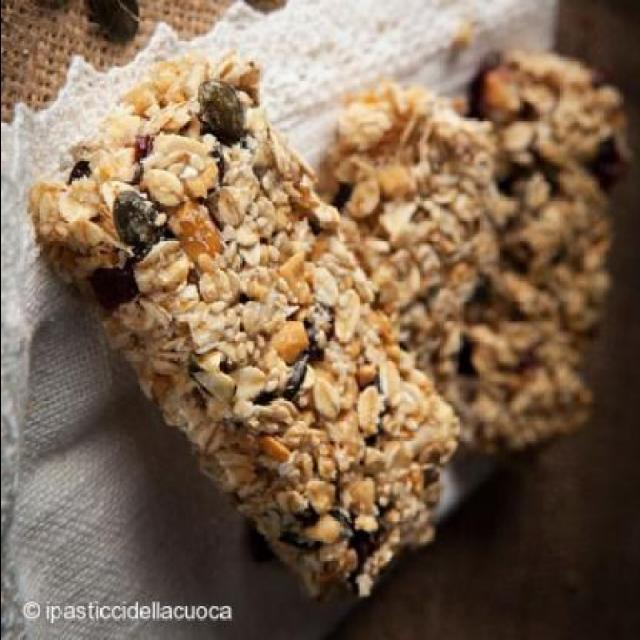Cereal bar packaged: (16, 90, 458, 578)
